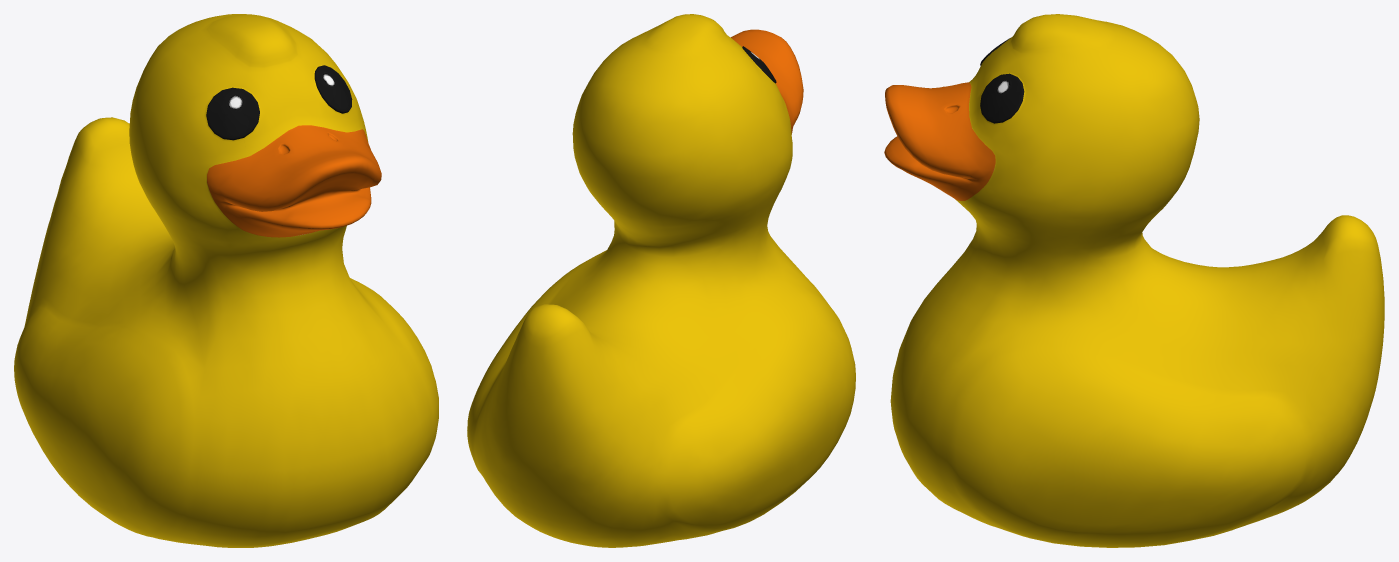
Rendered from rubberduck.glb.
The picture shows the model from 3 angles, left to right: view 1: azimuth 30°, elevation 25°; view 2: azimuth 150°, elevation 25°; view 3: azimuth 270°, elevation 25°; orthographic projection. The views are drawn at different scales.
Visible parts, largest first — view 1: Object_2; view 2: Object_2; view 3: Object_2.
Boxes of the visible parts, x1,y1,x2,y2 form: Object_2: (14, 14, 438, 547); Object_2: (467, 14, 855, 547); Object_2: (884, 14, 1384, 547).
Bounding box in the file's own units: 0.7249 × 1.05 × 0.9954.
Materials: 1 (1 with a texture image).
